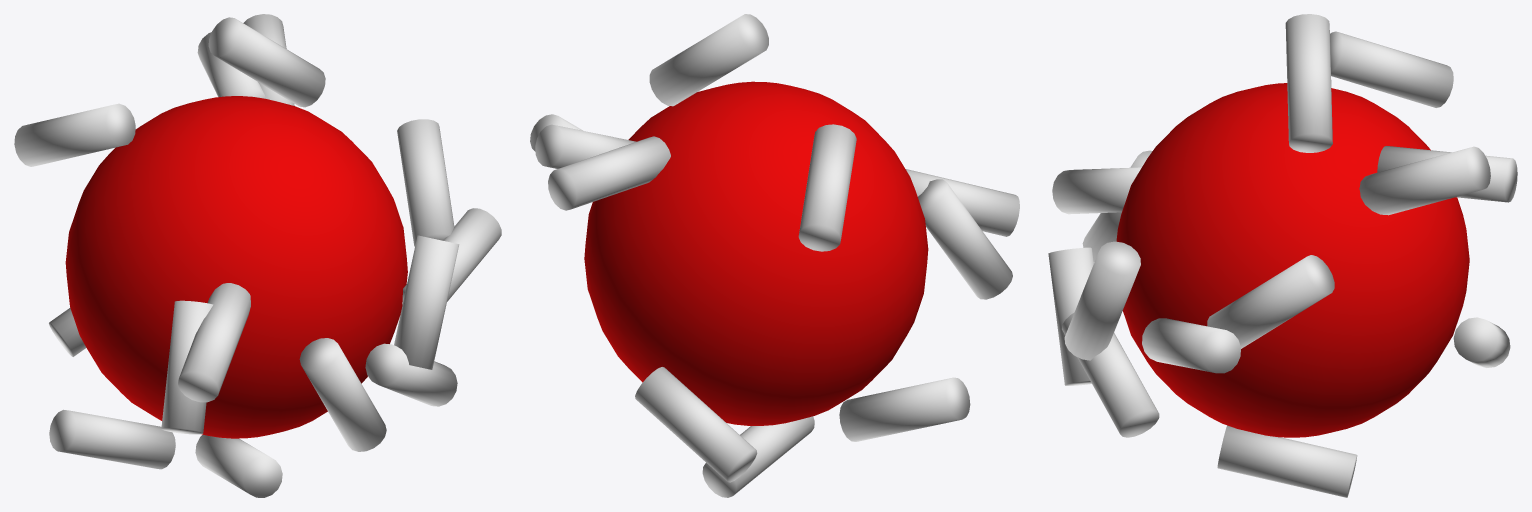
File: malware_payload.glb
3 views of the same model, side by side, from view 1: azimuth 30°, elevation 25°; view 2: azimuth 150°, elevation 25°; view 3: azimuth 270°, elevation 25° (orthographic). The views are drawn at different scales.
Visible parts, largest first — view 1: Sphere; view 2: Sphere; view 3: Sphere.
Part boxes in pixels (box(x1,y1,x2,y2)): Sphere: box(14, 14, 501, 497); Sphere: box(530, 14, 1019, 497); Sphere: box(1048, 14, 1517, 497).
Size of the model in its own units: 2.25 by 2.39 by 2.11.
